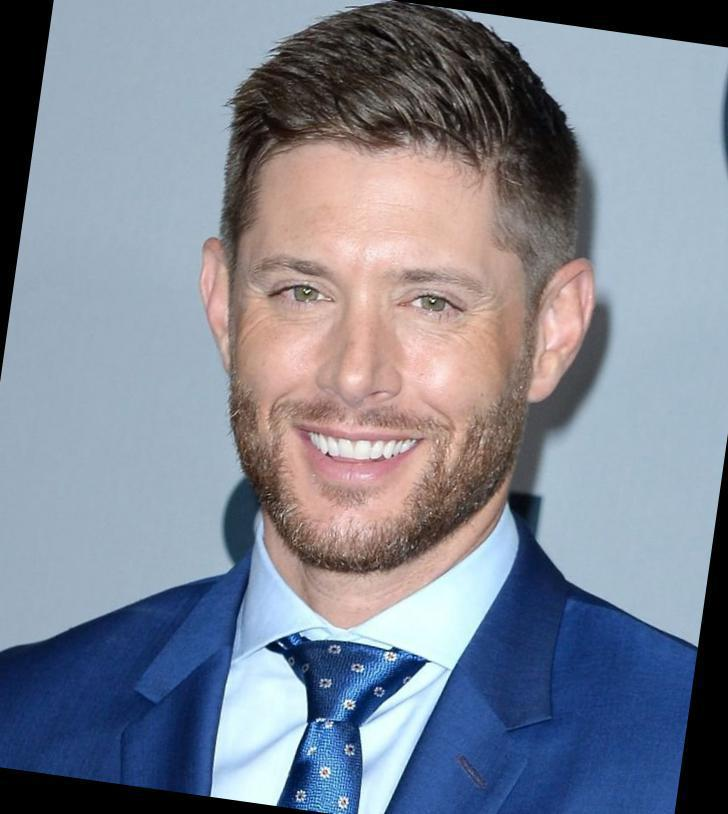Sober: (246, 167, 504, 536)
